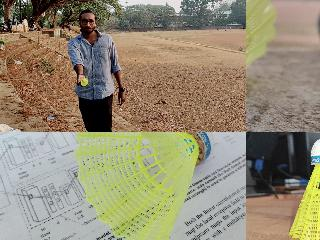shuttlecock: (74, 132, 214, 239), (246, 0, 276, 115), (289, 136, 319, 239), (80, 78, 88, 86)
